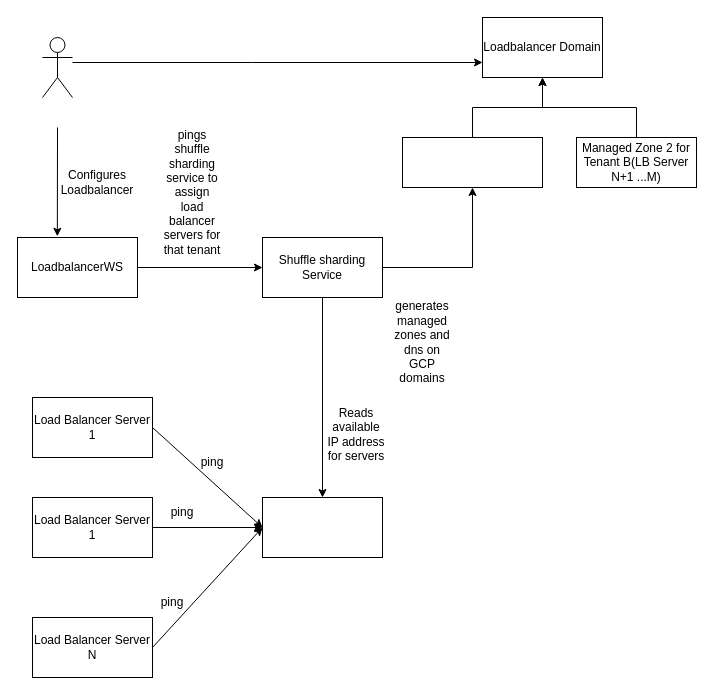
The diagram is 714 pixels wide and 695 high, and some of its shapes have lost their labels. Here are the shapes that lost their labels. From the top down, the centre of each, then its label:
point (57, 67): Tenant A
point (472, 162): Managed Zone 1 for Tenant A (LB Server 1...N)
point (322, 527): Redis Cache
